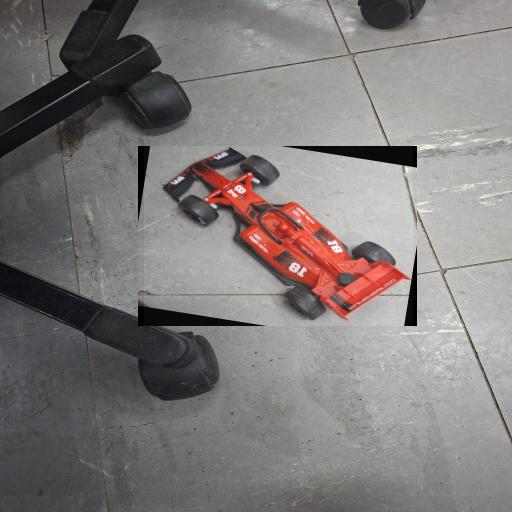carro: (144, 146, 412, 326)
